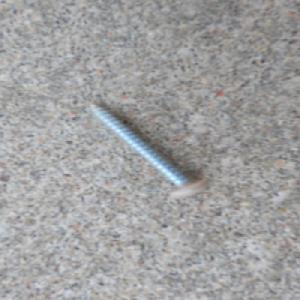Screw: (86, 101, 211, 199)
